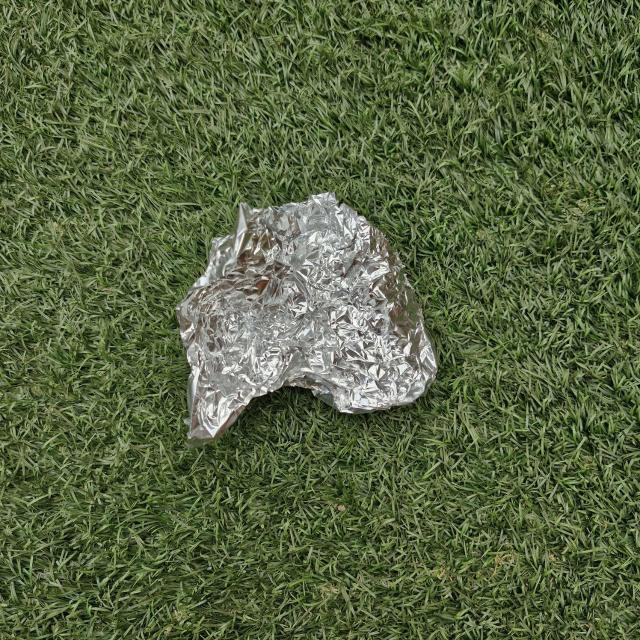metal: (172, 188, 446, 452)
